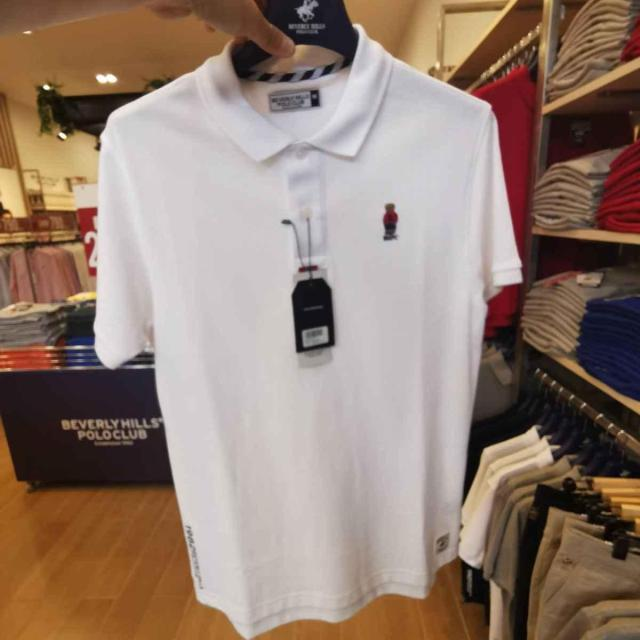Tshirt: (88, 51, 512, 604)
